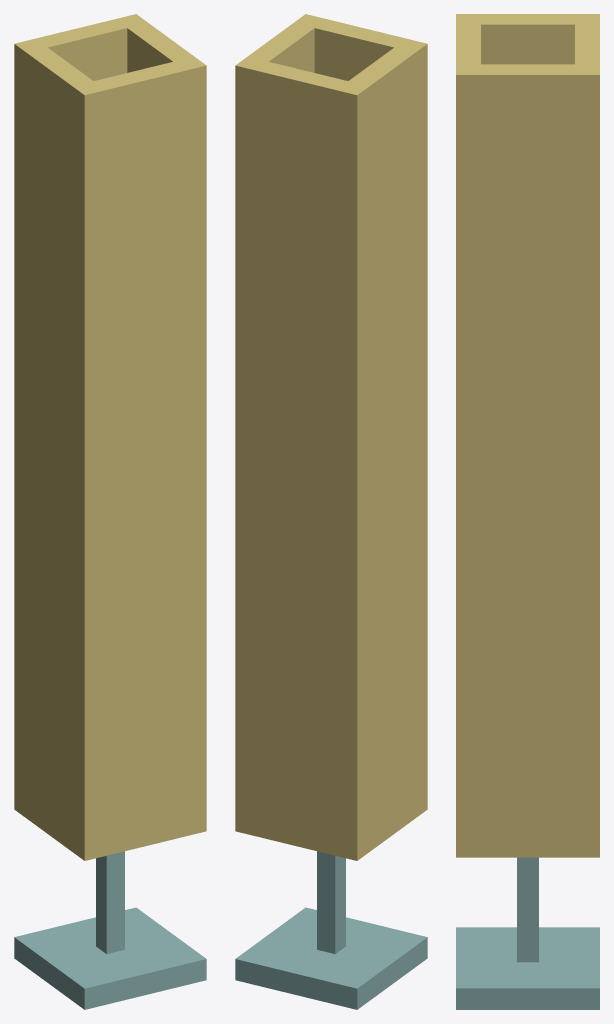
File: lampSquareFloor.glb
3 renders of one model, left to right at view 1: azimuth 30°, elevation 25°; view 2: azimuth 150°, elevation 25°; view 3: azimuth 270°, elevation 25°, orthographic. The views are drawn at different scales.
Parts seen in each view (by area): view 1: lampSquareFloor; view 2: lampSquareFloor; view 3: lampSquareFloor.
Part boxes in pixels (x1=…): lampSquareFloor: x1=14, y1=14, x2=206, y2=1009; lampSquareFloor: x1=235, y1=14, x2=427, y2=1009; lampSquareFloor: x1=456, y1=14, x2=599, y2=1009.
Bounding box in the file's own units: 0.24 × 1.72 × 0.24.
